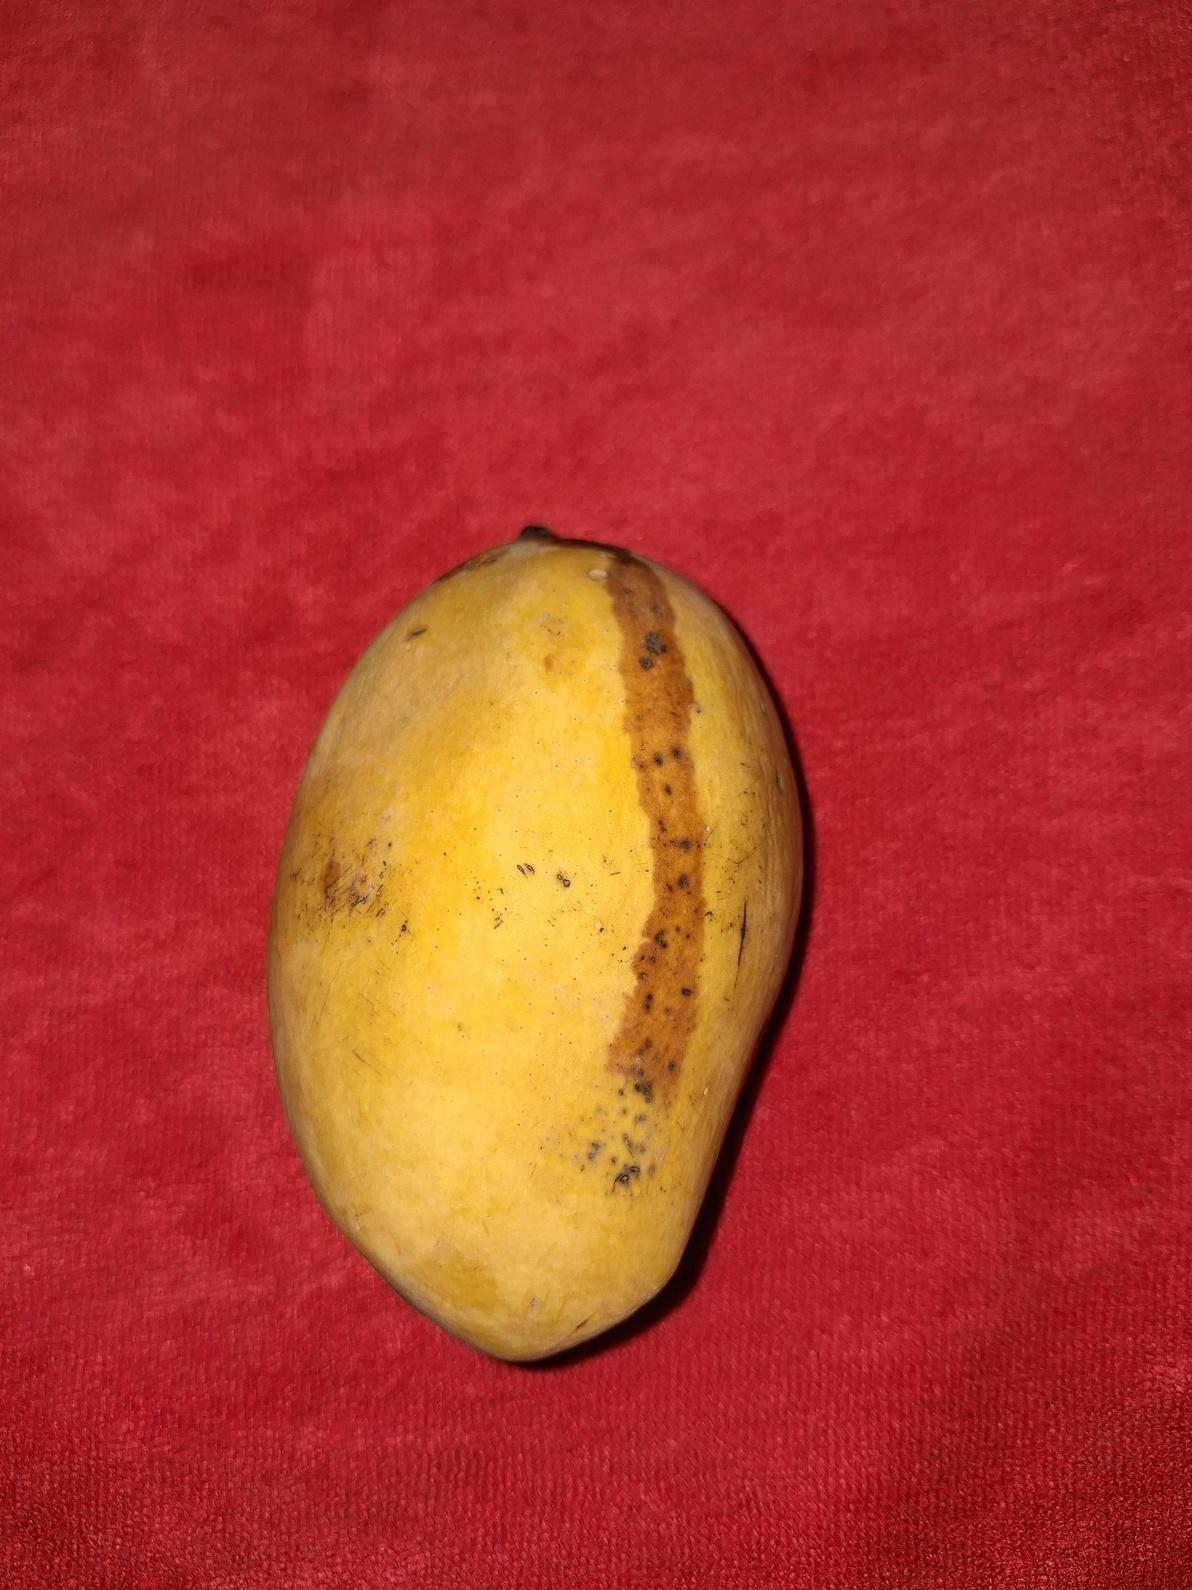mango: (264, 522, 806, 1365)
